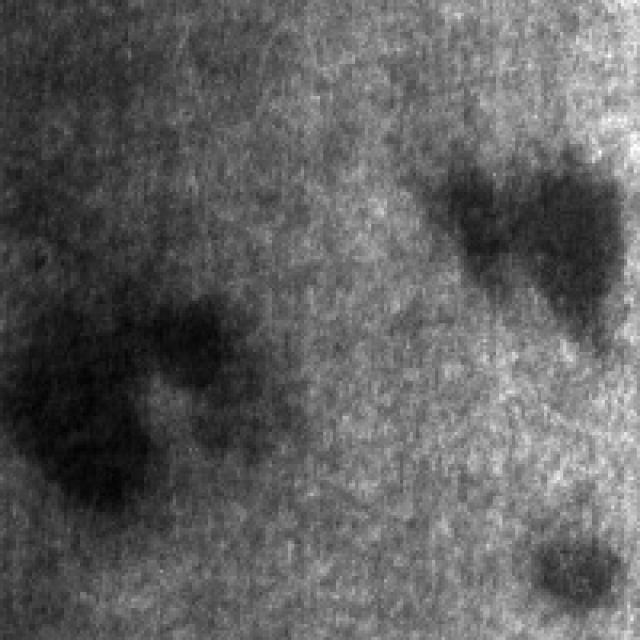patches: (3, 266, 160, 528), (422, 141, 618, 342), (128, 285, 262, 454), (522, 522, 627, 618)
